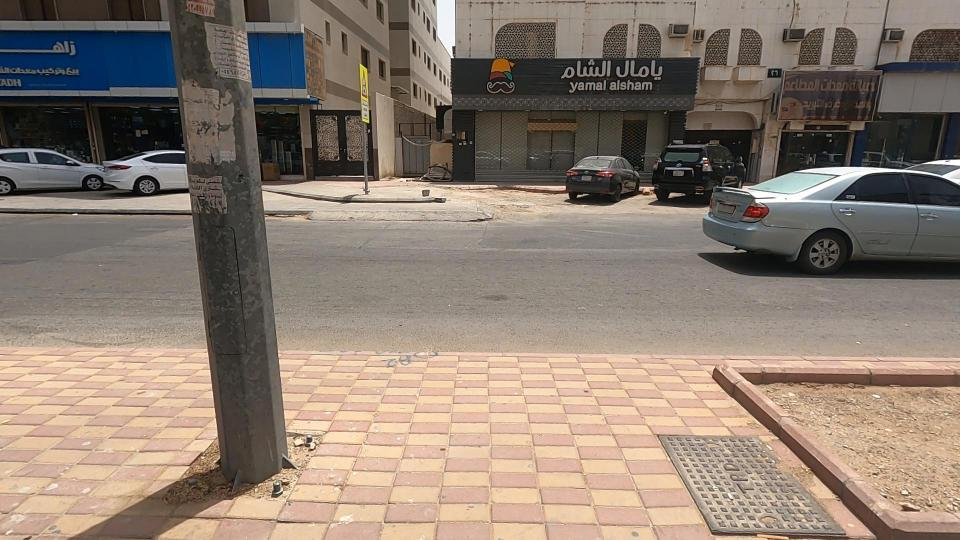BAD_BILLBOARD: (718, 35, 946, 168)
